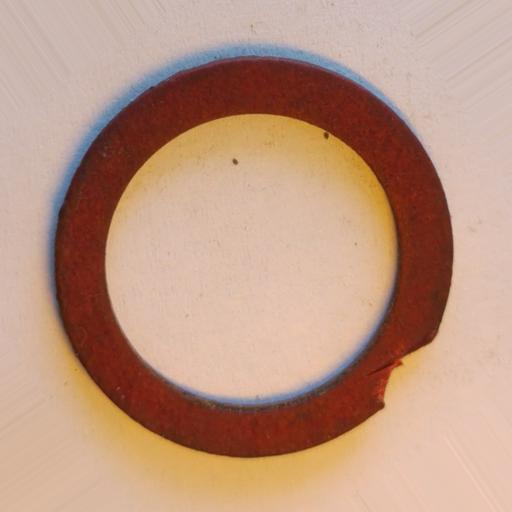defect: (376, 332, 437, 408)
